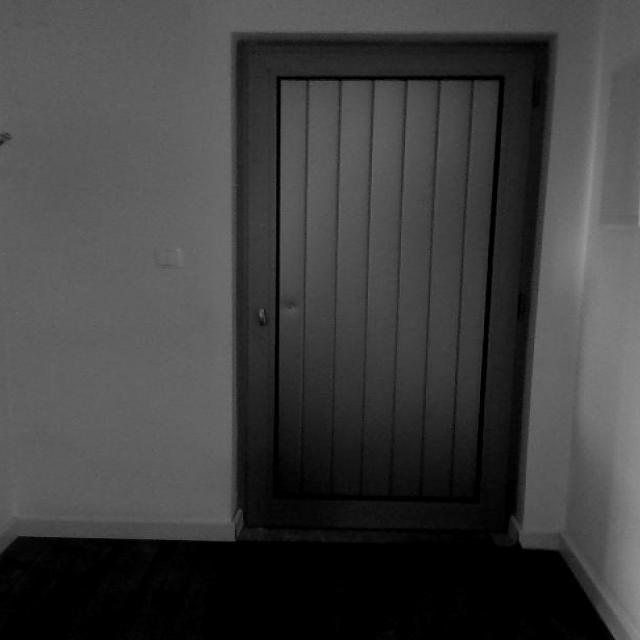door: (234, 36, 546, 537)
